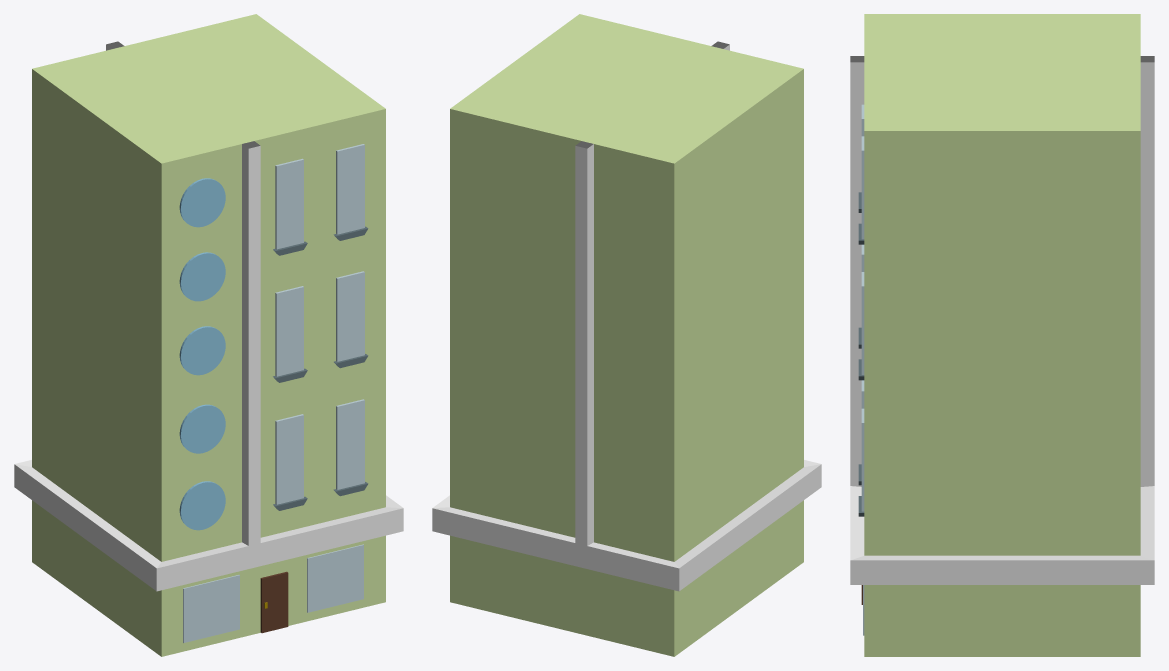
File: buildingA2.fbx
3 renders of one model, left to right at view 1: azimuth 30°, elevation 25°; view 2: azimuth 150°, elevation 25°; view 3: azimuth 270°, elevation 25°, orthographic. The views are drawn at different scales.
Visible parts, largest first — view 1: Cube; view 2: Cube; view 3: Cube.
Part boxes in pixels (left/top/right/bottom): Cube: left=14, top=14, right=403, bottom=656; Cube: left=432, top=14, right=821, bottom=656; Cube: left=850, top=14, right=1154, bottom=656.
Bounding box in the file's own units: 1100 × 2100 × 1100.
